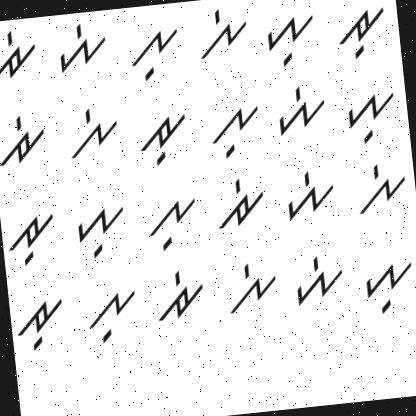le: (190, 3, 254, 66), (58, 102, 122, 164), (350, 157, 411, 220), (223, 257, 282, 321)
lu: (140, 188, 204, 256), (121, 18, 186, 84), (206, 97, 266, 162), (84, 282, 141, 348)
re: (212, 171, 268, 238), (152, 266, 210, 326), (0, 110, 49, 171), (0, 26, 40, 85)
ru: (4, 205, 63, 272), (331, 0, 392, 62), (132, 105, 192, 168), (12, 290, 70, 354)
ye: (276, 164, 341, 226), (49, 15, 111, 80), (271, 77, 330, 144), (288, 250, 348, 310)
yu: (338, 78, 400, 147), (354, 252, 416, 318), (256, 6, 320, 69), (70, 198, 130, 263)
